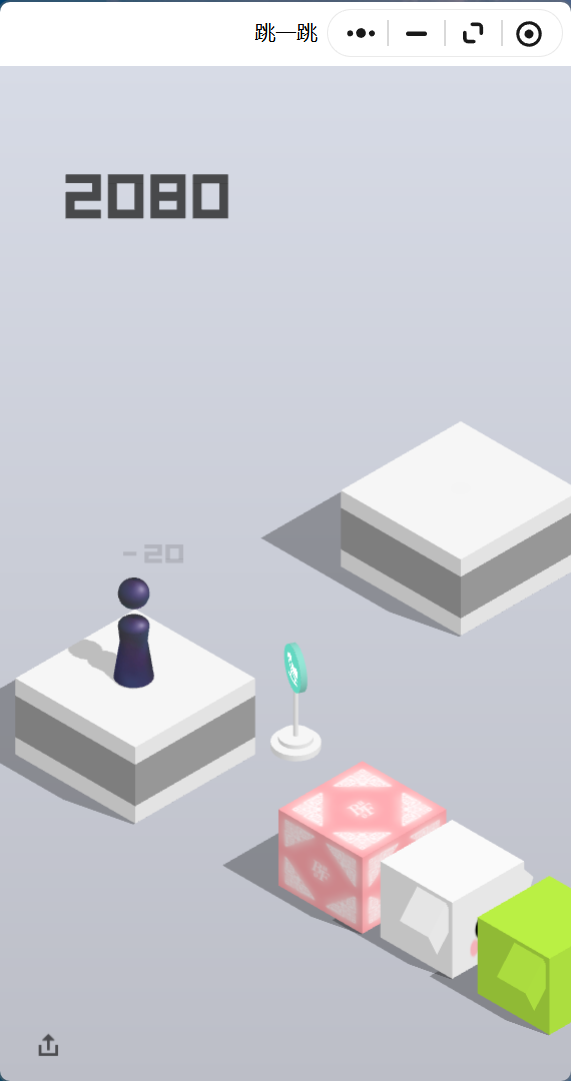piece: (117, 577, 148, 685)
target: (340, 421, 571, 561)
